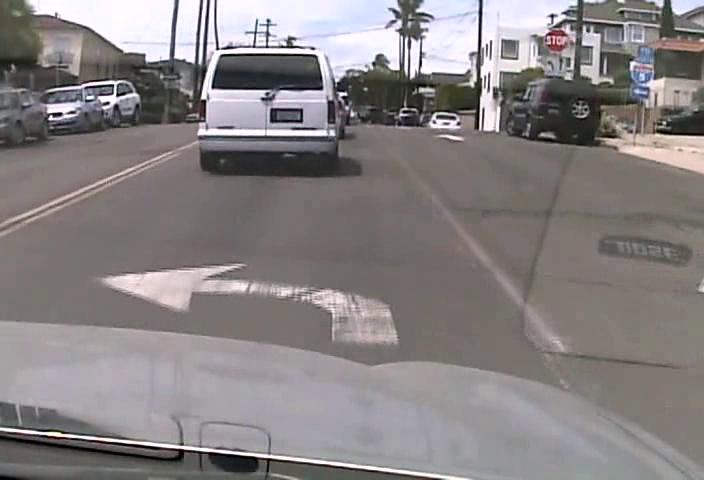stop: (542, 28, 569, 52)
